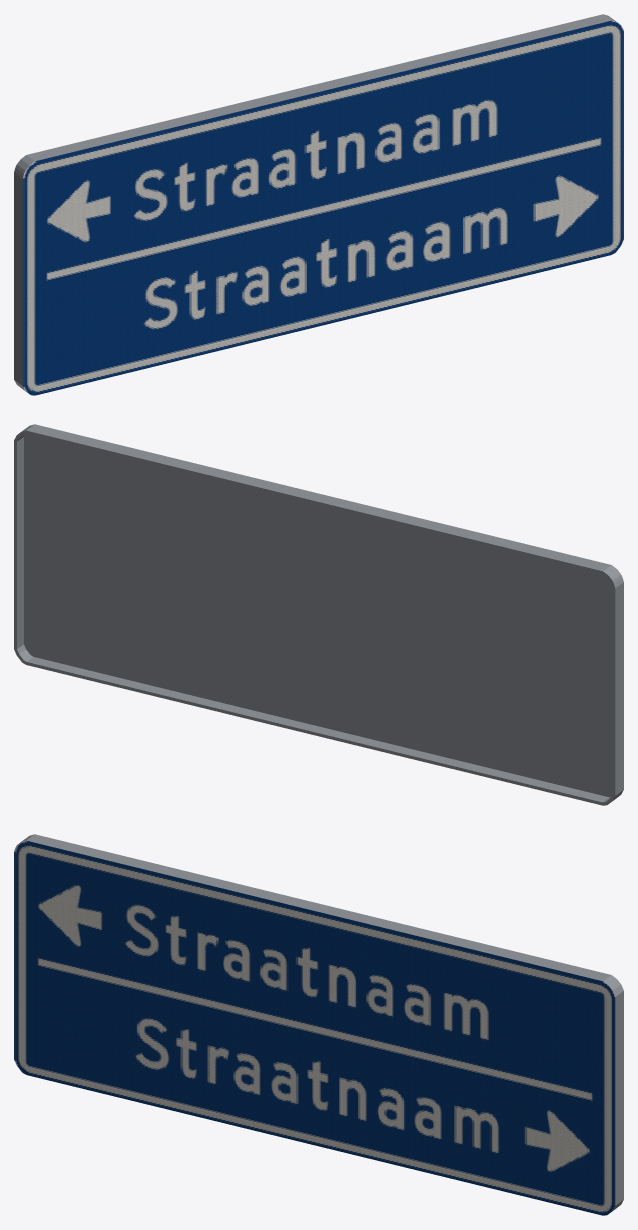
3 views of the same model, one above another, from view 1: azimuth 30°, elevation 25°; view 2: azimuth 150°, elevation 25°; view 3: azimuth 330°, elevation 25° (orthographic).
Visible parts, largest first — view 1: cat_2478f90df30f82a1; view 2: cat_2478f90df30f82a1; view 3: cat_2478f90df30f82a1.
Boxes of the visible parts, left/top/right/bottom form: cat_2478f90df30f82a1: left=14, top=14, right=623, bottom=395; cat_2478f90df30f82a1: left=14, top=424, right=623, bottom=805; cat_2478f90df30f82a1: left=14, top=834, right=623, bottom=1215.
Bounding box in the file's own units: 0.6 × 0.015 × 0.2235.
Materials: 2 (1 with a texture image).
